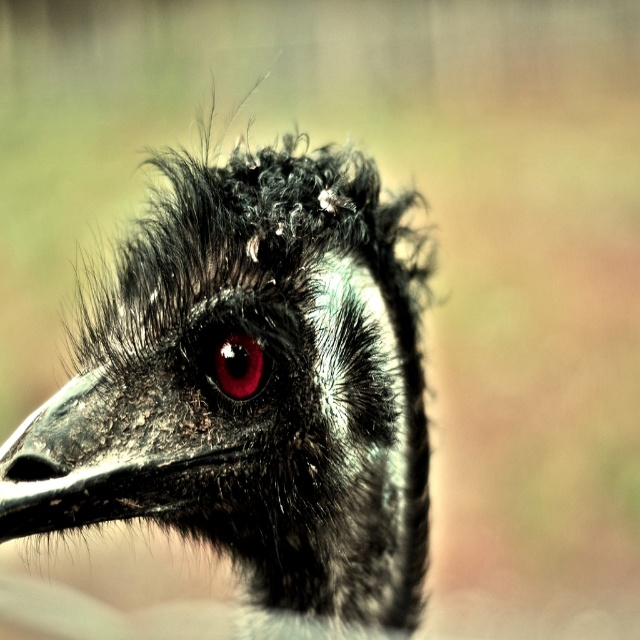Ostrich: (0, 49, 454, 640)
